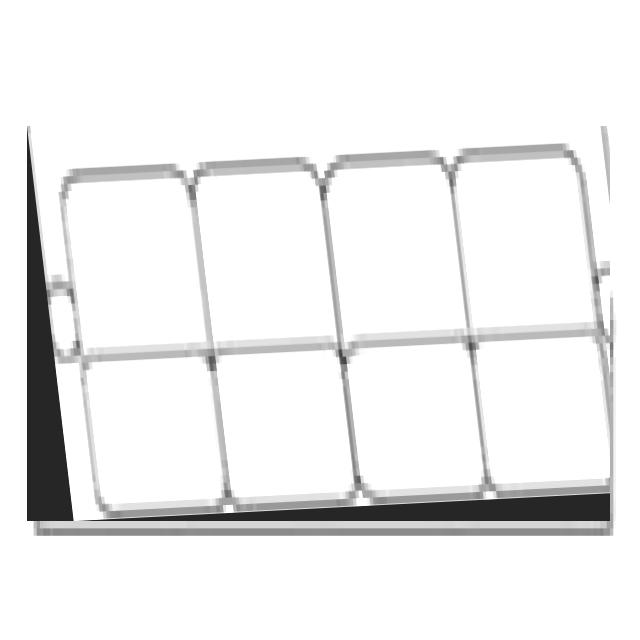sofa: (27, 126, 610, 521)
